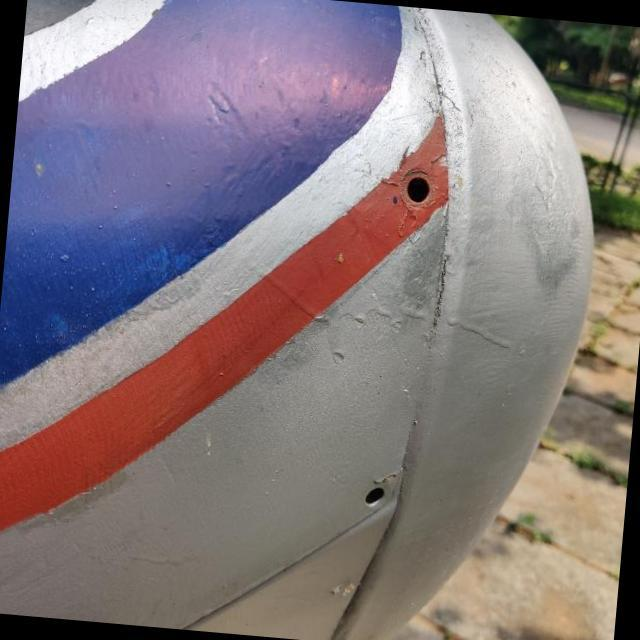Fastener Damage: (371, 150, 458, 232), (336, 466, 405, 534)
